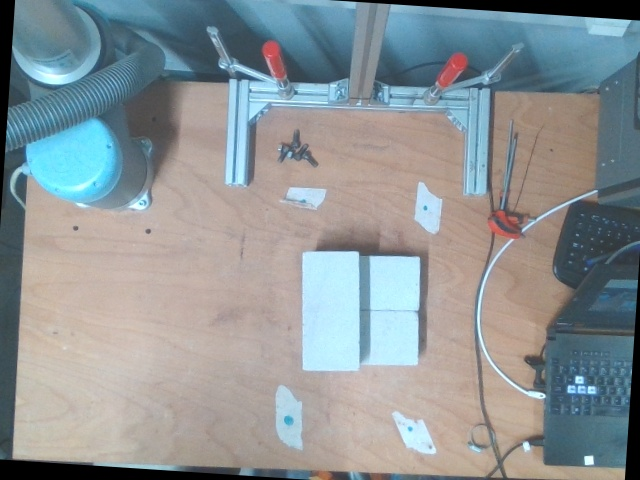brick: (303, 254, 360, 369)
